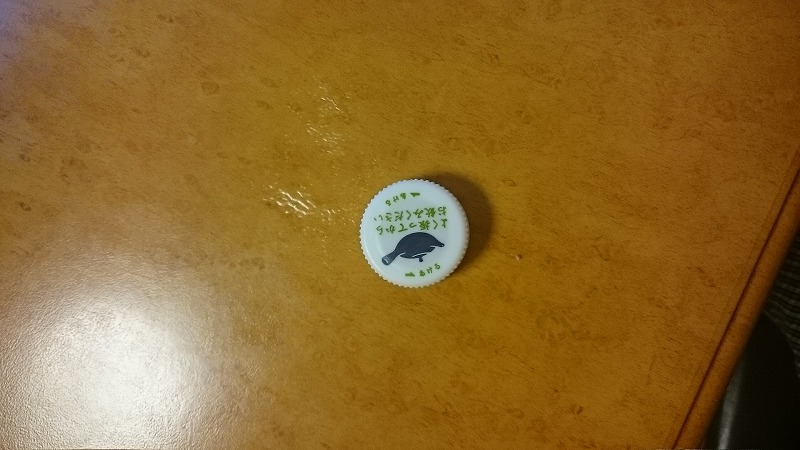A: (353, 167, 484, 295)
